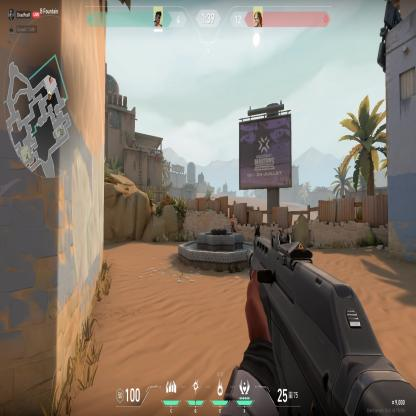enemy: (230, 214, 237, 232)
